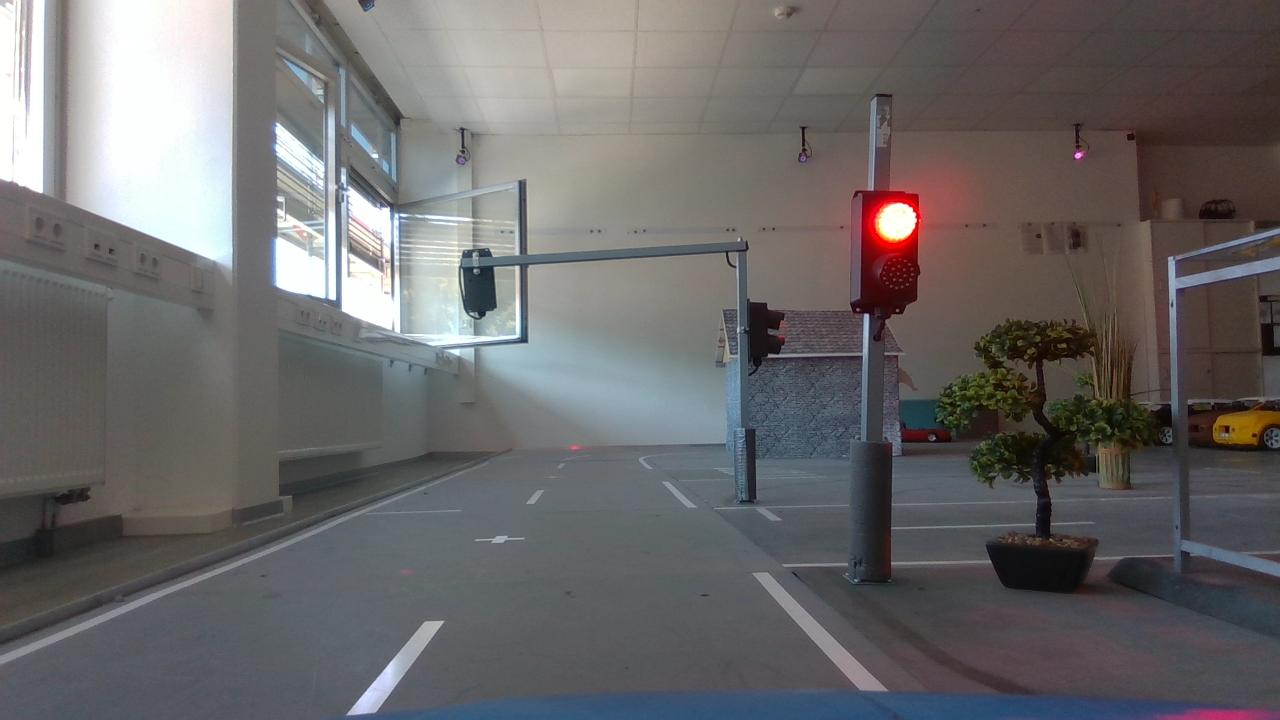traffic_light_red: (835, 179, 931, 320)
